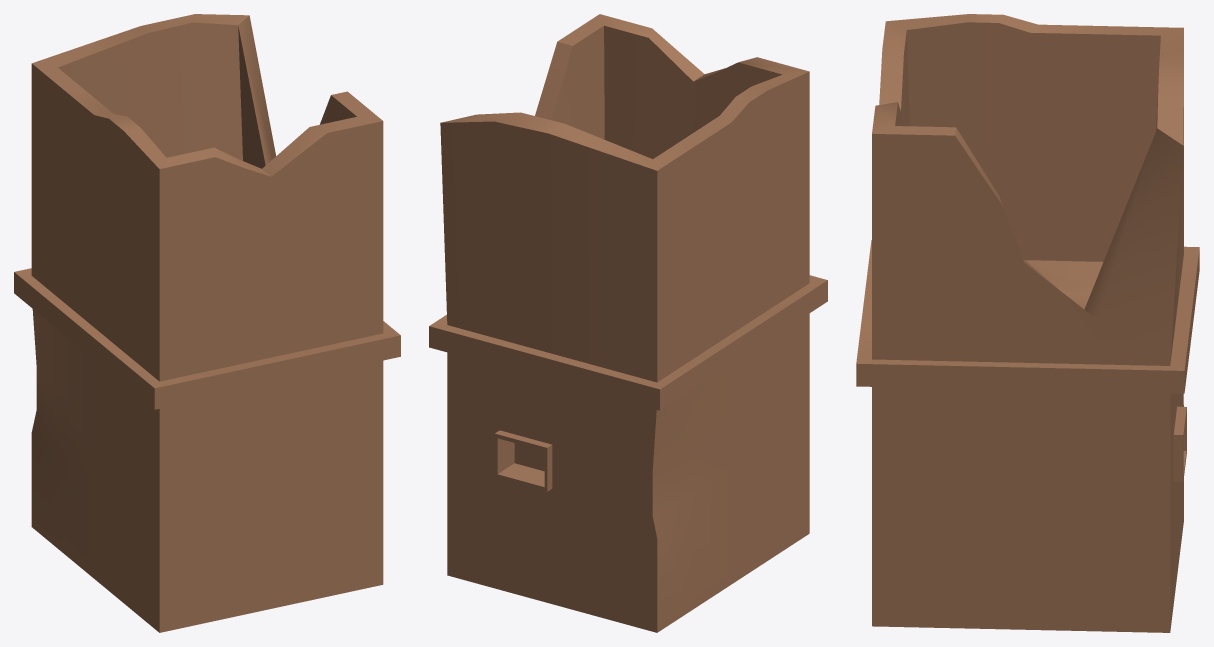
The model's file is Maison.fbx.
The picture shows the model from 3 angles, left to right: view 1: azimuth 30°, elevation 25°; view 2: azimuth 150°, elevation 25°; view 3: azimuth 270°, elevation 25°; orthographic projection. The views are drawn at different scales.
Parts seen in each view (by area): view 1: Cube.090; view 2: Cube.090; view 3: Cube.090.
Boxes of the visible parts, left/top/right/bottom form: Cube.090: left=14, top=14, right=400, bottom=632; Cube.090: left=429, top=14, right=827, bottom=632; Cube.090: left=856, top=14, right=1199, bottom=632.
Size of the model in its own units: 401 by 724 by 444.
